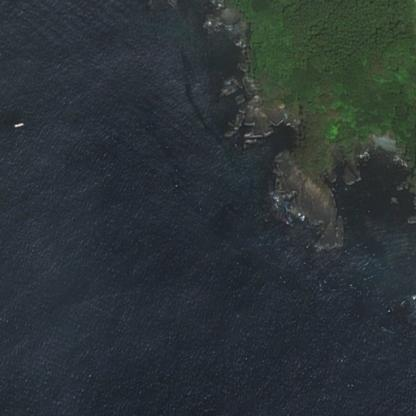ship: (11, 116, 25, 134)
